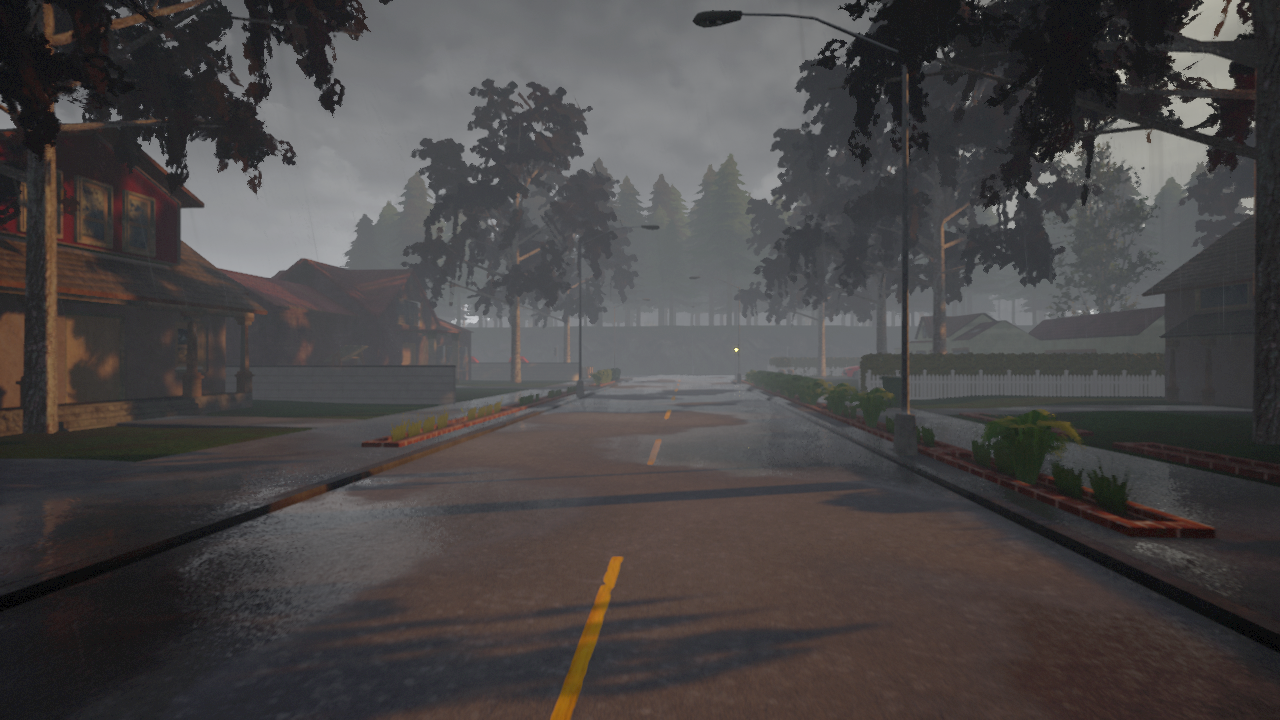yellow: (733, 342, 740, 356)
